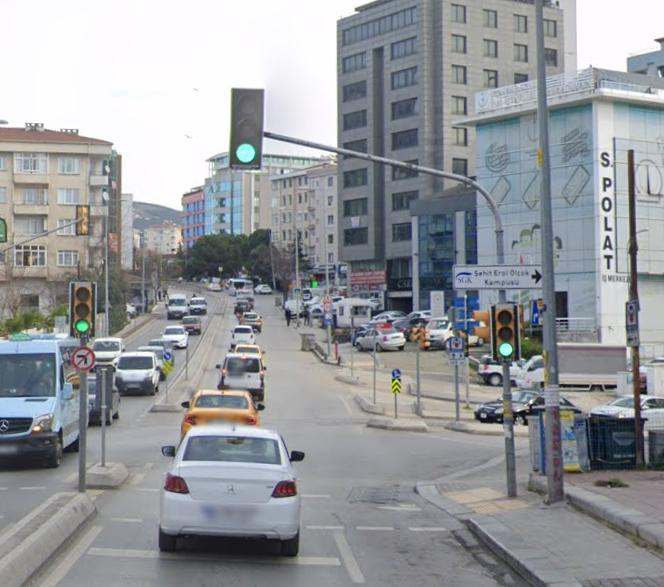greenlight: (231, 87, 262, 167), (68, 286, 93, 338), (495, 303, 517, 362)
leftturnsareforbidden: (72, 347, 92, 370)
